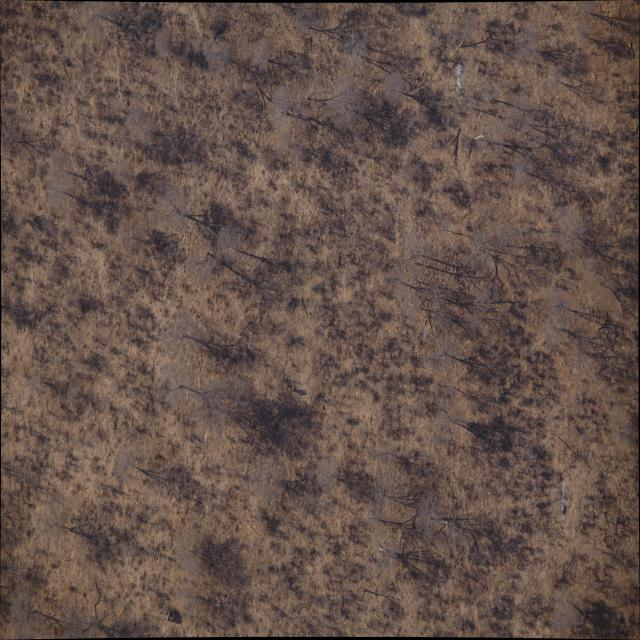elephant: (167, 607, 172, 623), (288, 386, 296, 392), (165, 609, 167, 615)
